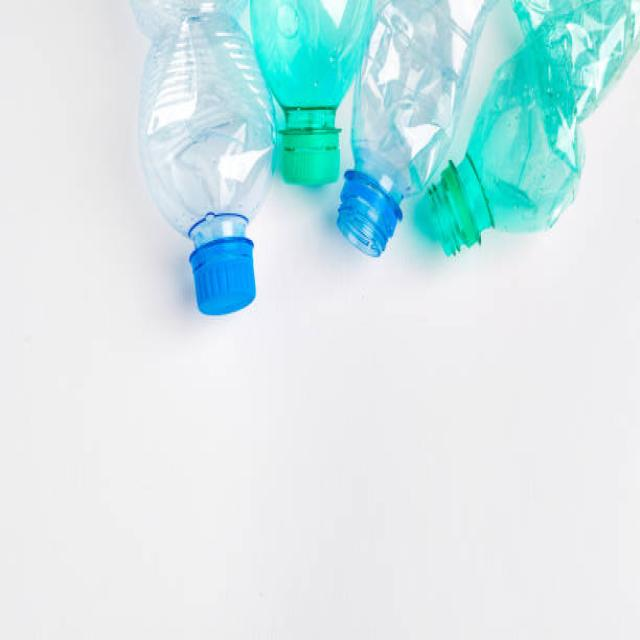plastic: (150, 14, 571, 240)
